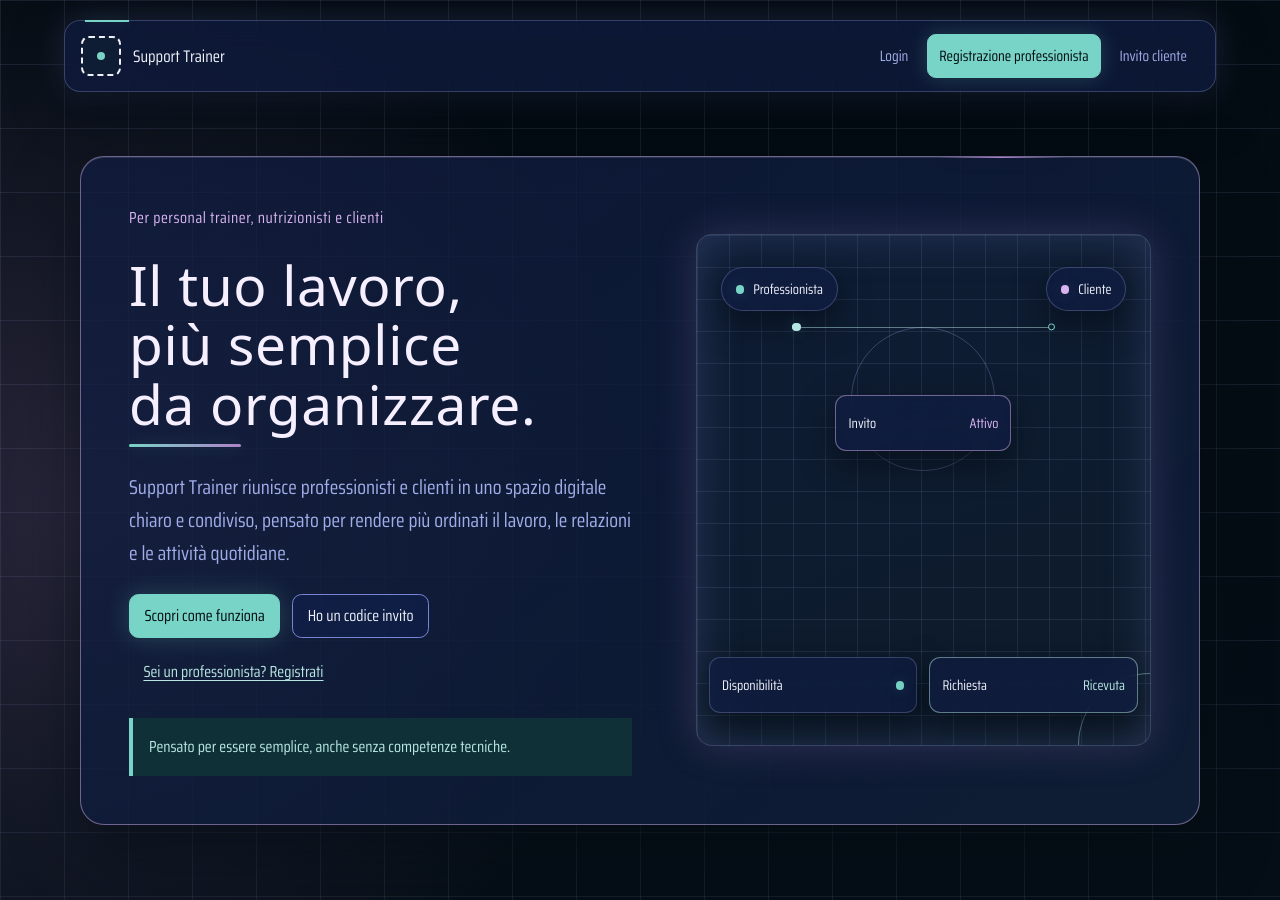
Test case: App BrowserRouter useTransitions={false} › monta App e raggiunge /login tramite Link pubblico
The image size is (1280, 900).
Click the link "Login": (894, 56) [880,44,908,68]
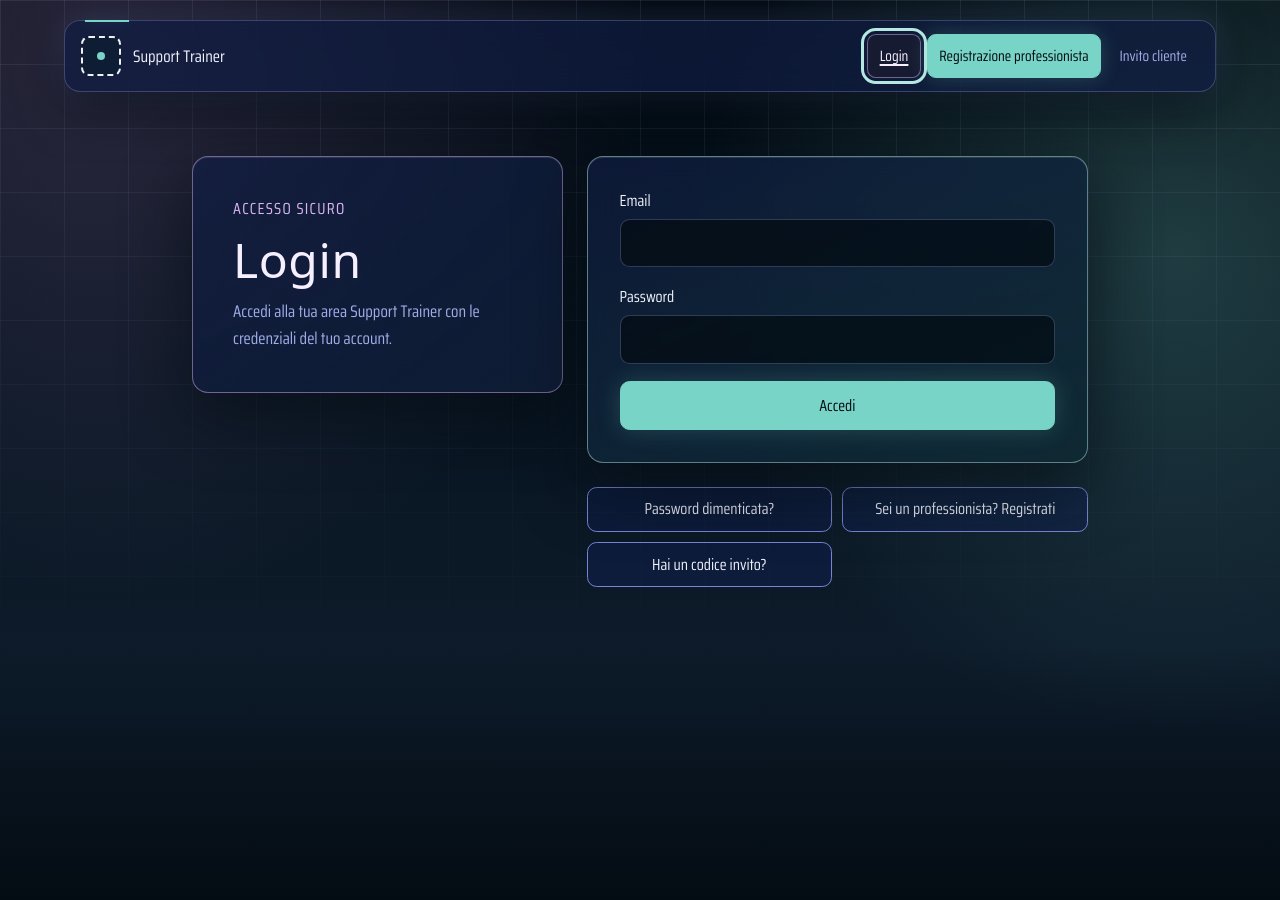
Expected: the heading "Login" is shown, [233,227,362,292]
